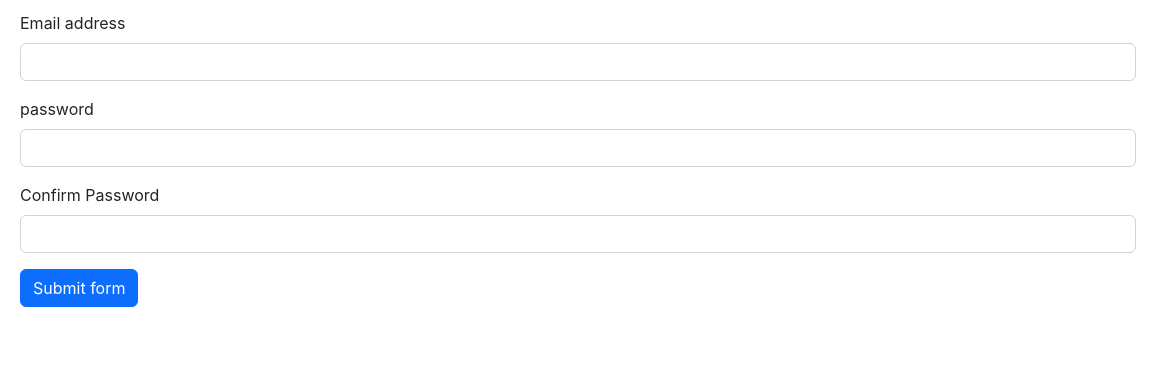
Test: password should have at least 5 Characters
In the field labelled "Email address": [578, 62] box [20,43,1136,81], type "selena@gmail.com"
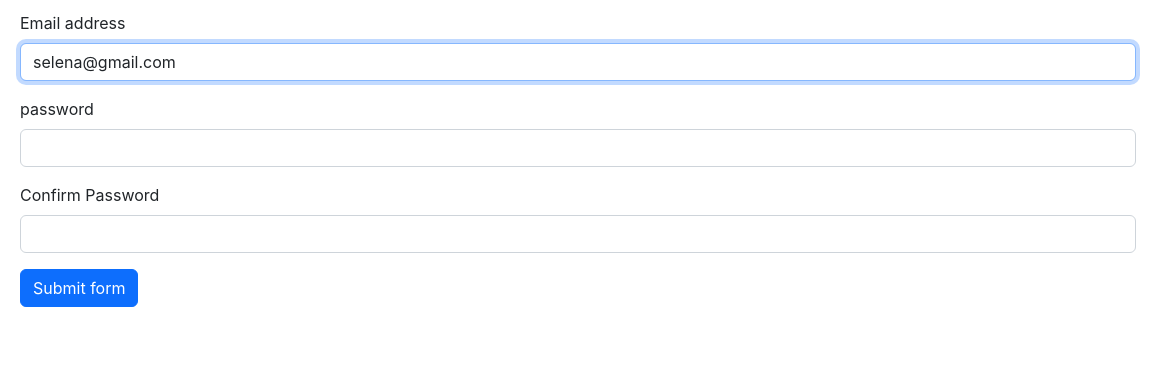
In the password field with test id "password": [578, 148] box [20,129,1136,167], type "123"
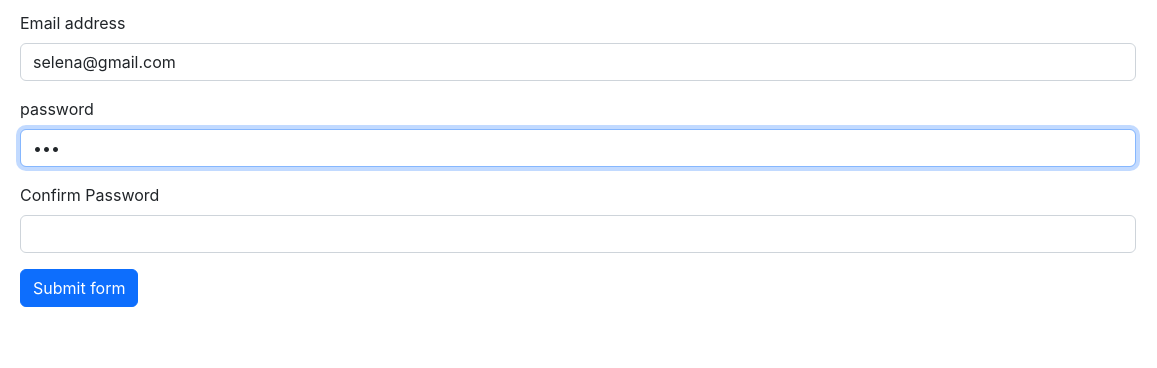
Click the button "Submit form": [79, 288] box [20,269,138,307]
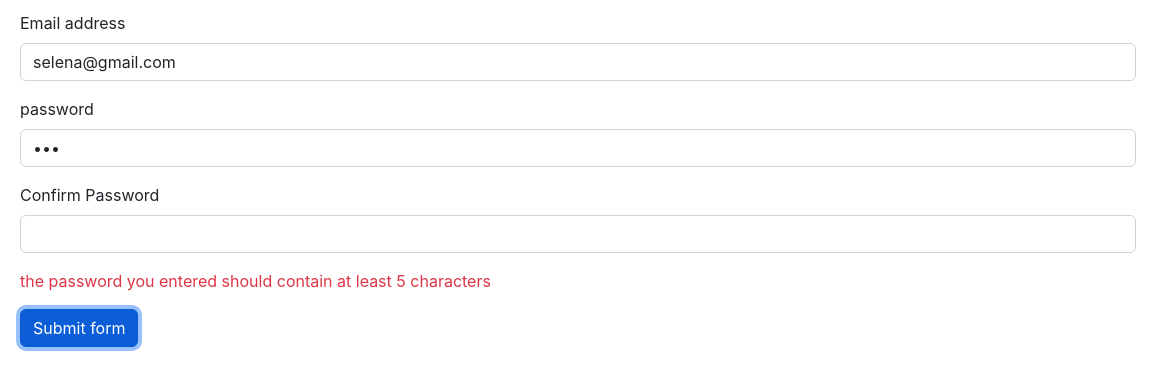
Expected: the text with test id "errorMessage" is shown, [20,271,491,291]
